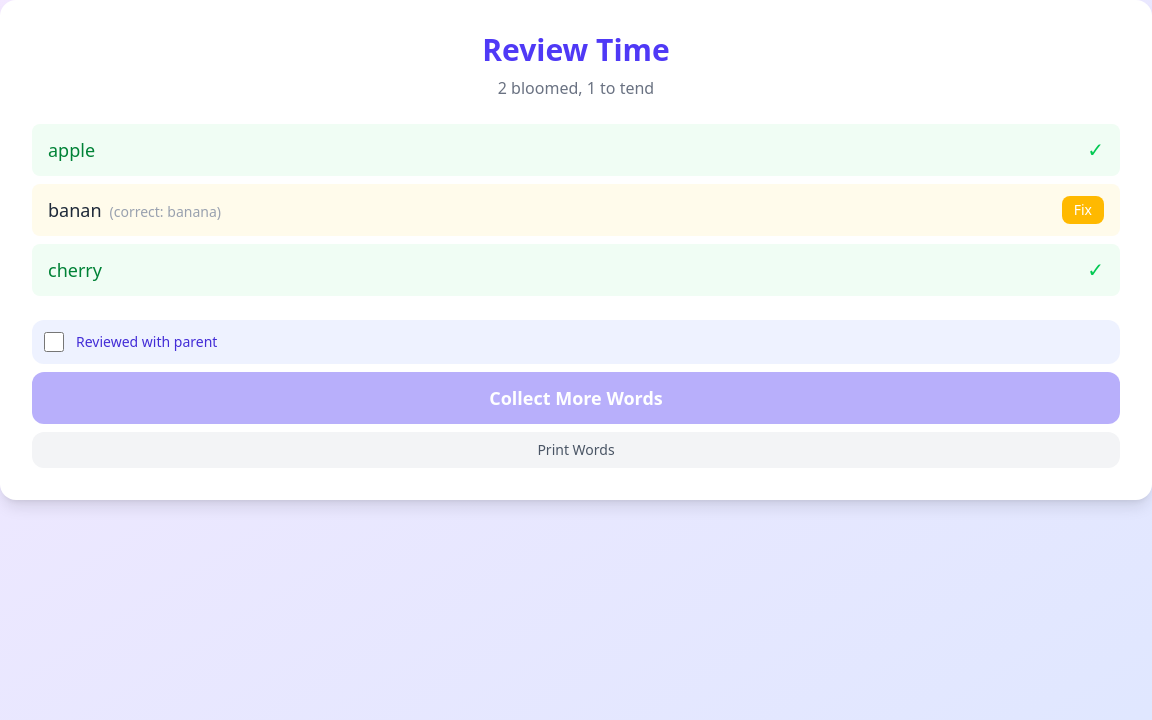
Complete (Review Mode) › enables Collect More Words button after checking parent review
Click the checkbox with test id "parent-reviewed-checkbox": (54, 342) [44, 332, 64, 352]
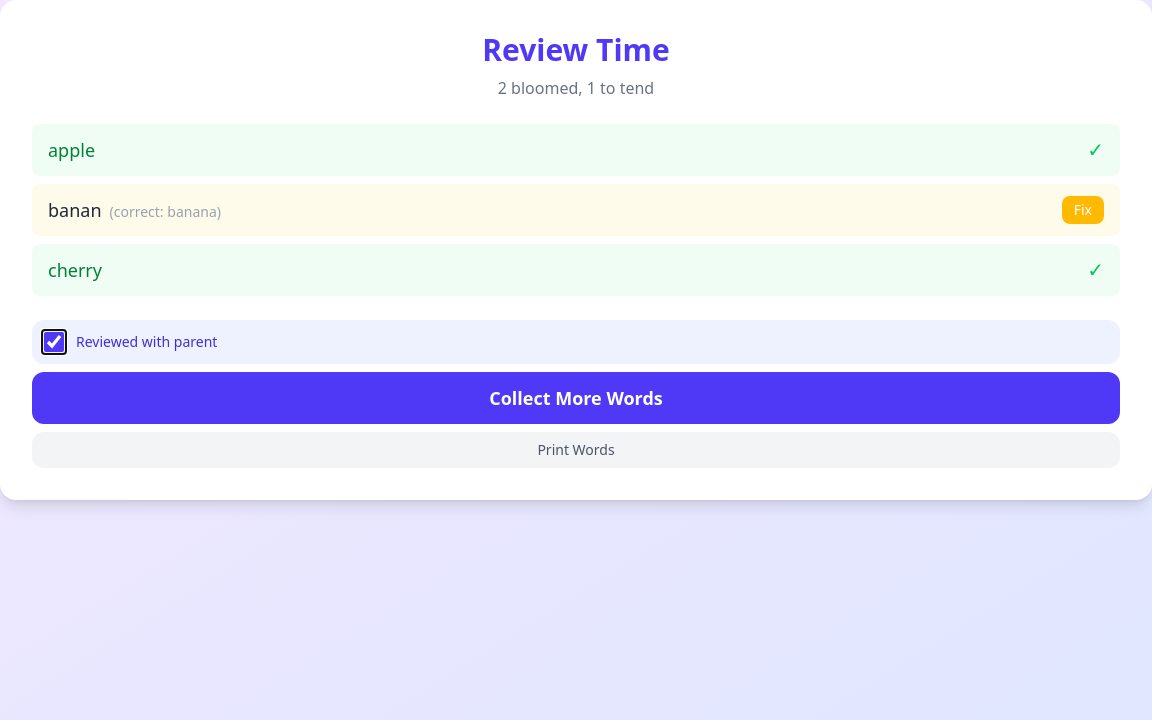
Check: the button "Collect More Words" is enabled, box [32, 372, 1120, 424]
